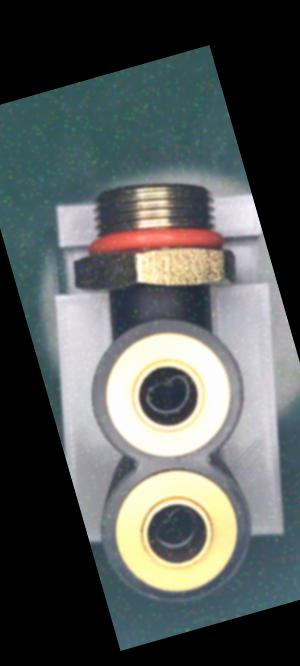joint line: (151, 281, 167, 314)
off-centered: (130, 356, 200, 427), (134, 499, 210, 561)
